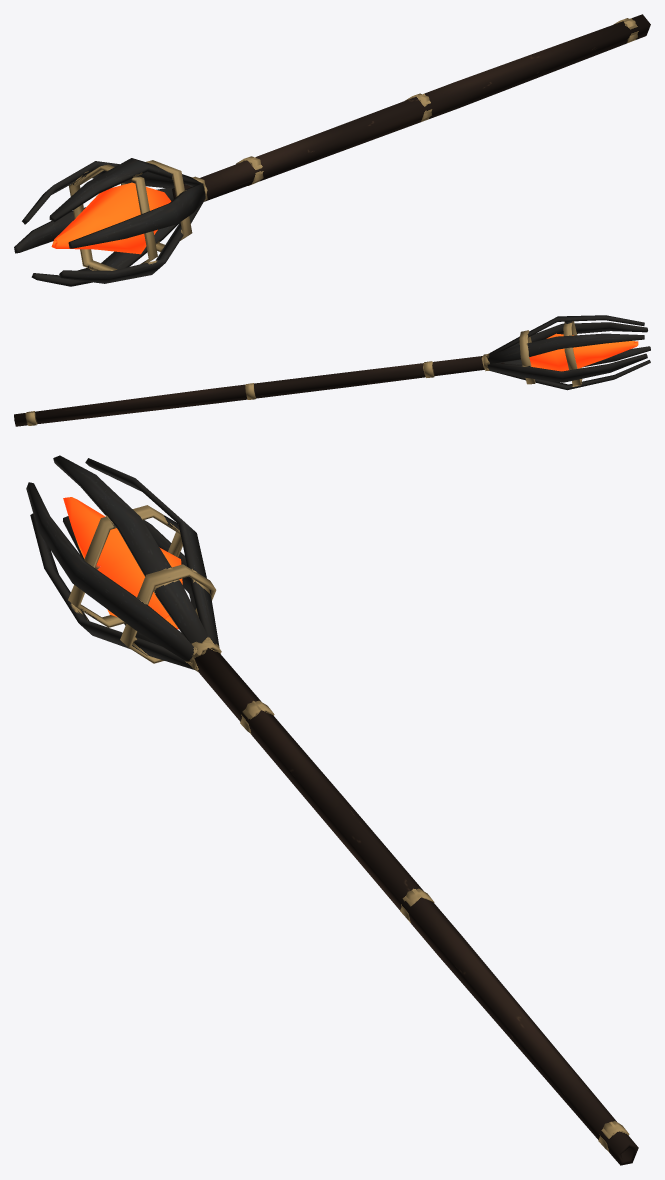
Rendered from wep_civic_ember_arcanist_ember_staff_lod1.glb.
3 renders of one model, top to bottom at view 1: azimuth 30°, elevation 25°; view 2: azimuth 150°, elevation 25°; view 3: azimuth 270°, elevation 25°, orthographic. The views are drawn at different scales.
Parts seen in each view (by area): view 1: ember_arcanist_weapon_lod1; view 2: ember_arcanist_weapon_lod1; view 3: ember_arcanist_weapon_lod1.
Boxes of the visible parts, x1,y1,x2,y2 form: ember_arcanist_weapon_lod1: [14, 14, 650, 286]; ember_arcanist_weapon_lod1: [14, 315, 650, 426]; ember_arcanist_weapon_lod1: [26, 455, 638, 1165].
Size of the model in its own units: 1.82 by 0.4245 by 0.9641.
Materials: 1 (1 with a texture image).
